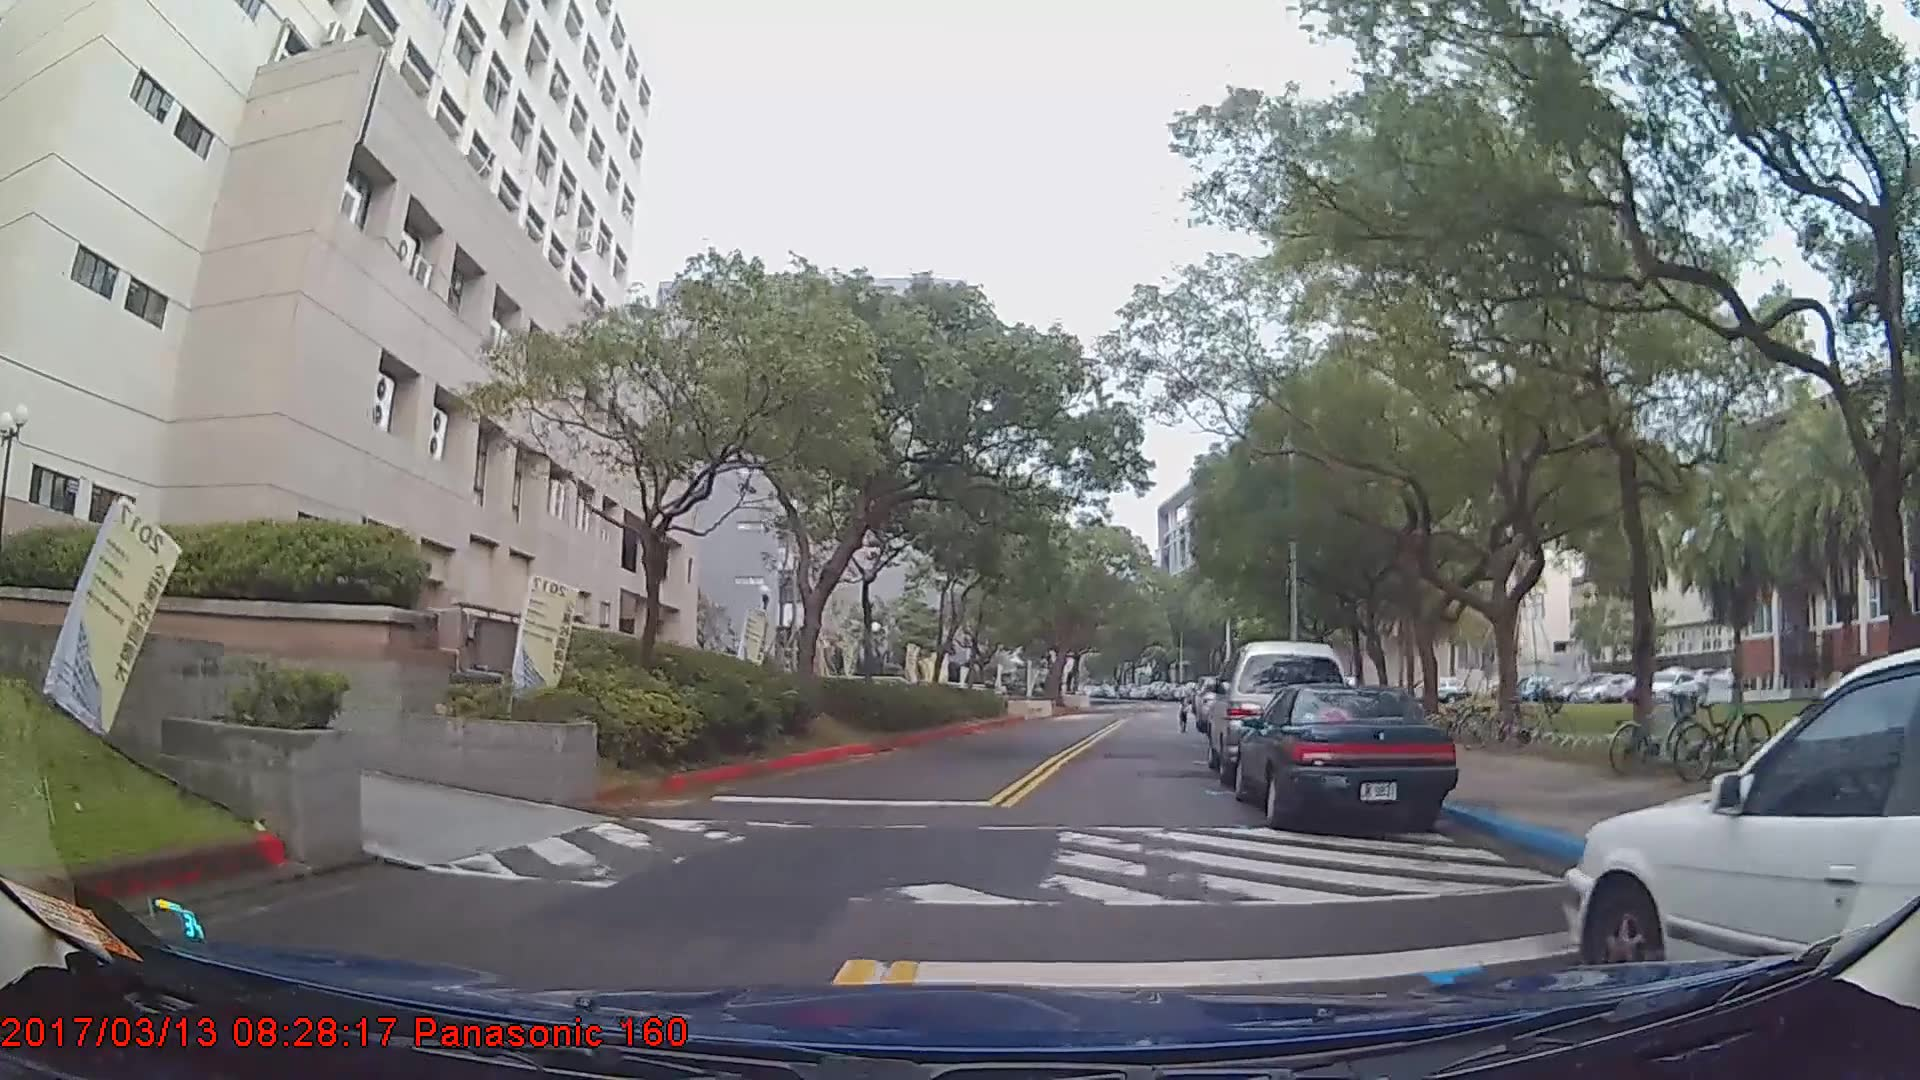vehicle: (1559, 647, 1920, 1006), (1230, 680, 1456, 827), (1209, 640, 1357, 789)
